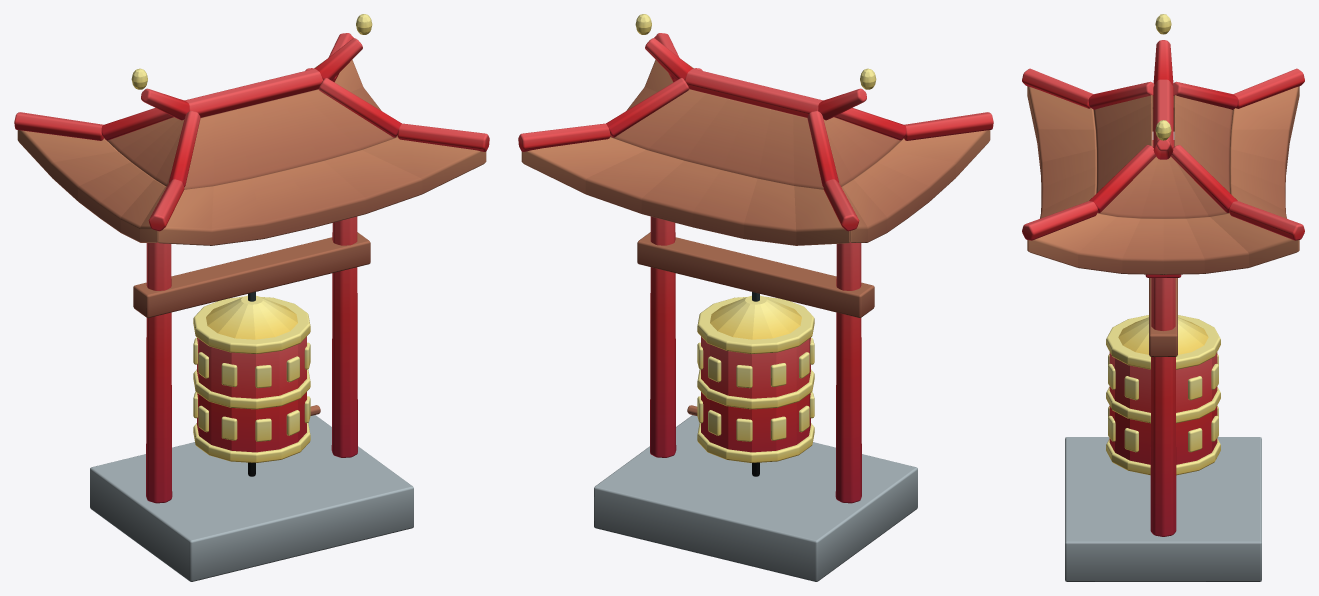
Rendered from prayer_wheel.glb.
The picture shows the model from 3 angles, left to right: view 1: azimuth 30°, elevation 25°; view 2: azimuth 150°, elevation 25°; view 3: azimuth 270°, elevation 25°; orthographic projection. The views are drawn at different scales.
Visible parts, largest first — view 1: prayer_wheel; view 2: prayer_wheel; view 3: prayer_wheel.
Part boxes in pixels (bbox=[...]): prayer_wheel: bbox=[14, 14, 489, 581]; prayer_wheel: bbox=[518, 14, 993, 581]; prayer_wheel: bbox=[1022, 14, 1304, 581].
Size of the model in its own units: 2.12 by 2.84 by 1.58.
Materials: 1 (1 with a texture image).
